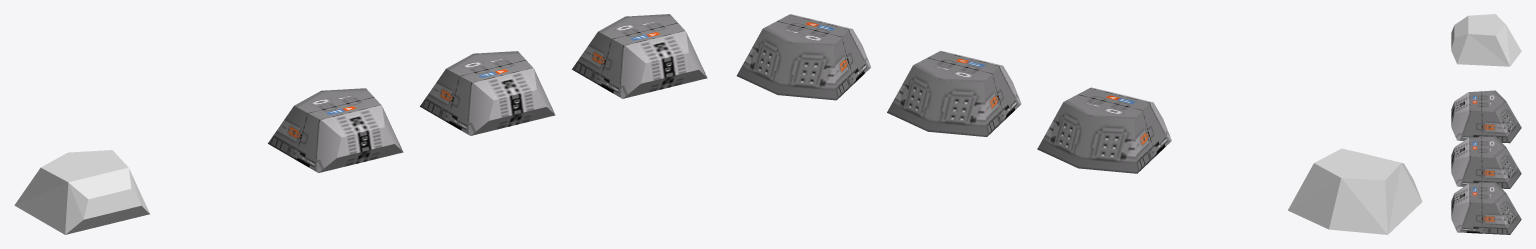
The model's file is bst_tdn_heavycruiser_ionbeamturret.dae.
The picture shows the model from 3 angles, left to right: view 1: azimuth 30°, elevation 25°; view 2: azimuth 150°, elevation 25°; view 3: azimuth 270°, elevation 25°; orthographic projection. The views are drawn at different scales.
Visible parts, largest first — view 1: MULT[root_mesh]_LOD[2], MULT[root_mesh]_LOD[1], COL[Root], MULT[root_mesh]_LOD[0]; view 2: MULT[root_mesh]_LOD[2], COL[Root], MULT[root_mesh]_LOD[0], MULT[root_mesh]_LOD[1]; view 3: COL[Root], MULT[root_mesh]_LOD[2], MULT[root_mesh]_LOD[0], MULT[root_mesh]_LOD[1].
Boxes of the visible parts, box(x1,y1,x2,y2) form: MULT[root_mesh]_LOD[2]: box(572, 14, 707, 98); MULT[root_mesh]_LOD[1]: box(420, 51, 555, 135); COL[Root]: box(14, 150, 149, 234); MULT[root_mesh]_LOD[0]: box(268, 88, 403, 172); MULT[root_mesh]_LOD[2]: box(736, 14, 871, 100); COL[Root]: box(1288, 148, 1422, 234); MULT[root_mesh]_LOD[0]: box(1037, 87, 1171, 173); MULT[root_mesh]_LOD[1]: box(887, 51, 1021, 136); COL[Root]: box(1451, 14, 1521, 66); MULT[root_mesh]_LOD[2]: box(1451, 182, 1521, 234); MULT[root_mesh]_LOD[0]: box(1451, 90, 1521, 143); MULT[root_mesh]_LOD[1]: box(1451, 136, 1521, 188).
Bounding box in the file's own units: 307 × 19.15 × 46.06.
Materials: 4 (4 with a texture image).
